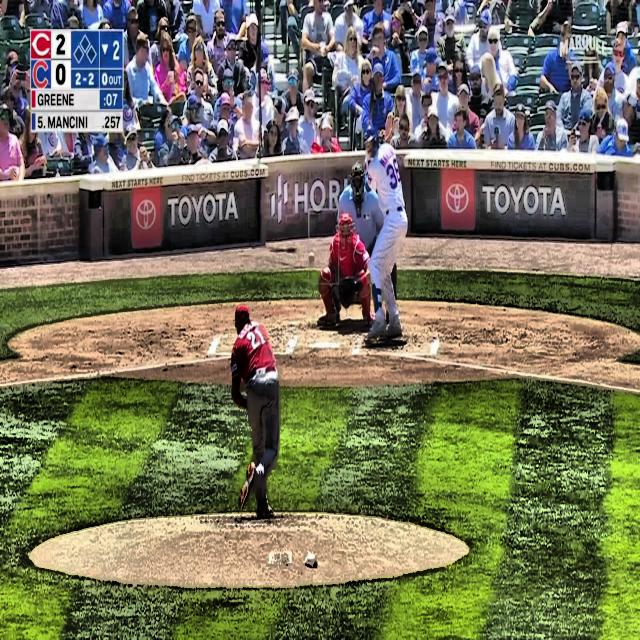baseball: (308, 250, 316, 264)
